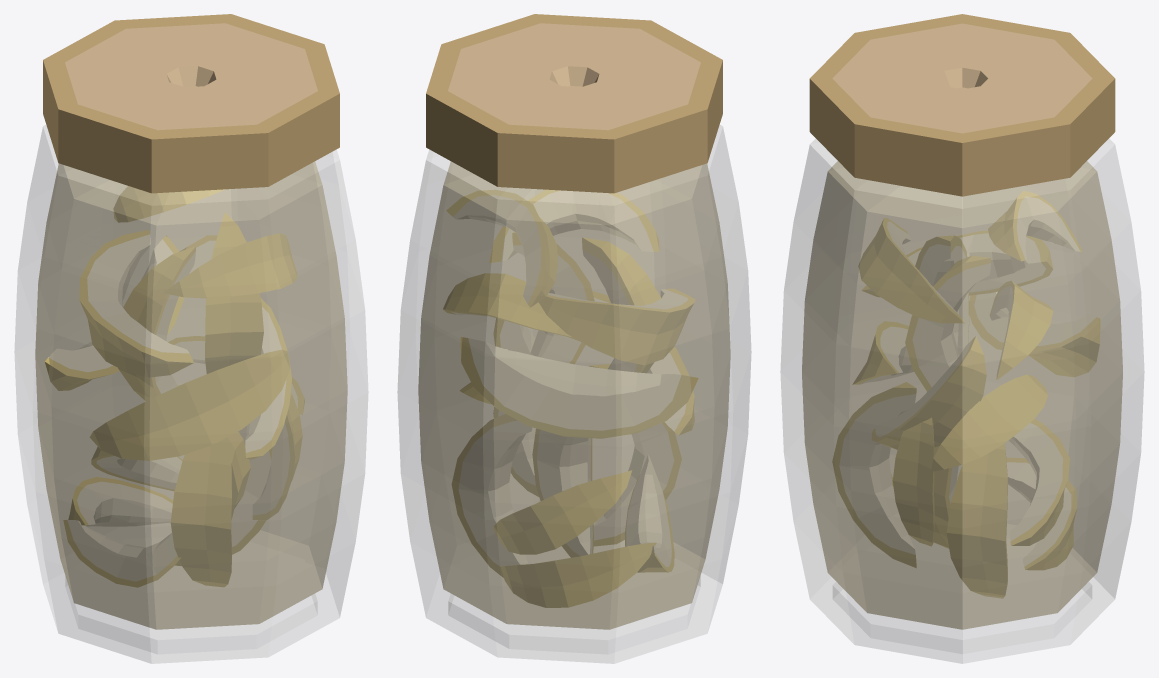
File: Gurfa Jar.glb
3 views of the same model, side by side, from view 1: azimuth 30°, elevation 25°; view 2: azimuth 150°, elevation 25°; view 3: azimuth 270°, elevation 25° (orthographic).
Visible parts, largest first — view 1: Gurfa Jar; view 2: Gurfa Jar; view 3: Gurfa Jar.
Part boxes in pixels (<box>): Gurfa Jar: <box>14,14,368,663</box>; Gurfa Jar: <box>397,14,751,663</box>; Gurfa Jar: <box>780,14,1144,663</box>.
Bounding box in the file's own units: 0.9491 × 1.5 × 0.9491.
